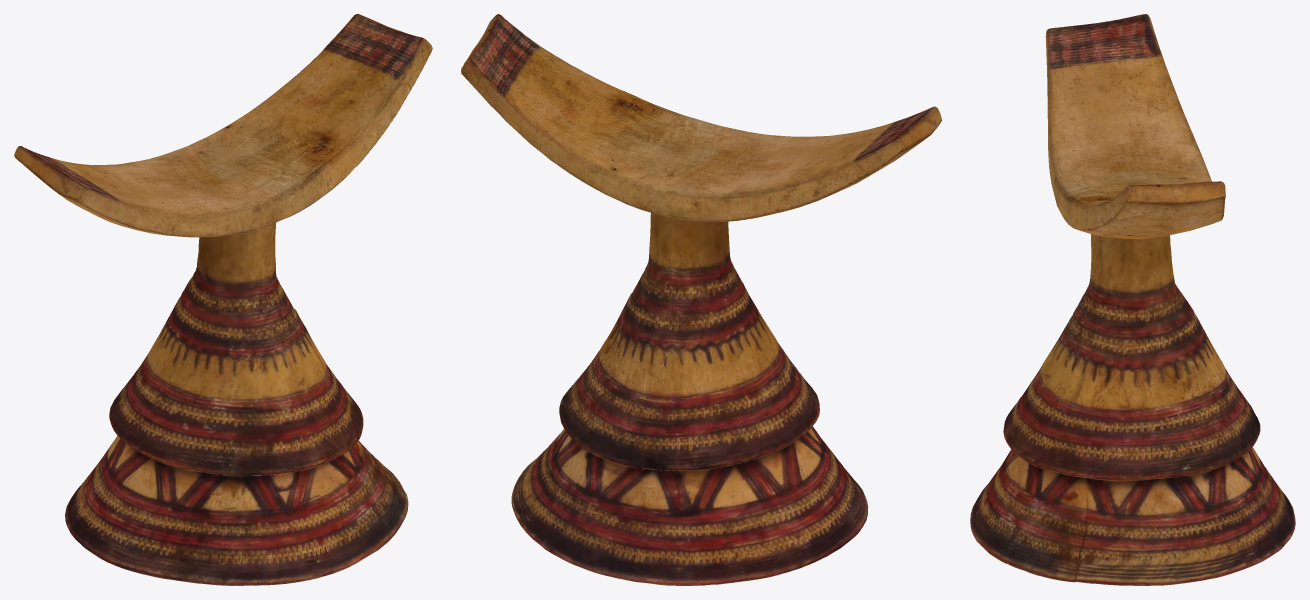
The model's file is preview.glb.
The picture shows the model from 3 angles, left to right: view 1: azimuth 30°, elevation 25°; view 2: azimuth 150°, elevation 25°; view 3: azimuth 270°, elevation 25°; orthographic projection. The views are drawn at different scales.
Parts seen in each view (by area): view 1: Model_material0_0; view 2: Model_material0_0; view 3: Model_material0_0.
Part boxes in pixels (bbox=[...]): Model_material0_0: bbox=[14, 14, 432, 585]; Model_material0_0: bbox=[461, 14, 941, 585]; Model_material0_0: bbox=[970, 14, 1295, 585].
Bounding box in the file's own units: 0.6418 × 0.6548 × 0.4507.
1 material, 1 textured.
